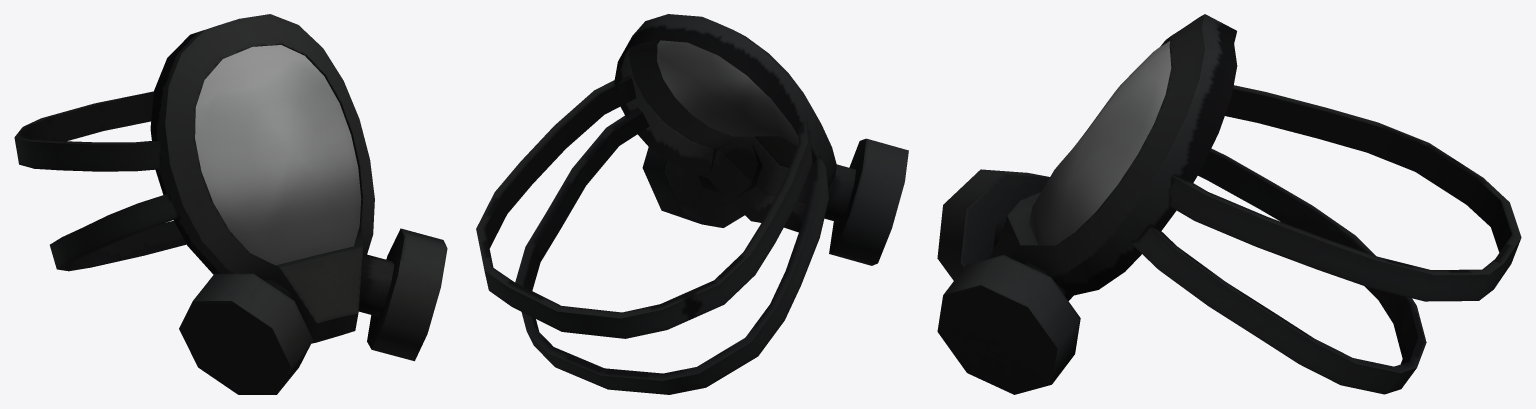
File: Chem_GasMask.fbx
The picture shows the model from 3 angles, left to right: view 1: azimuth 30°, elevation 25°; view 2: azimuth 150°, elevation 25°; view 3: azimuth 270°, elevation 25°; orthographic projection. The views are drawn at different scales.
Parts seen in each view (by area): view 1: GasMask; view 2: GasMask; view 3: GasMask.
Boxes of the visible parts, x1=… form: GasMask: x1=14, y1=14, x2=447, y2=394; GasMask: x1=476, y1=14, x2=908, y2=394; GasMask: x1=937, y1=14, x2=1521, y2=394.
Size of the model in its own units: 16.78 by 19.02 by 29.88.
1 material, 1 textured.
